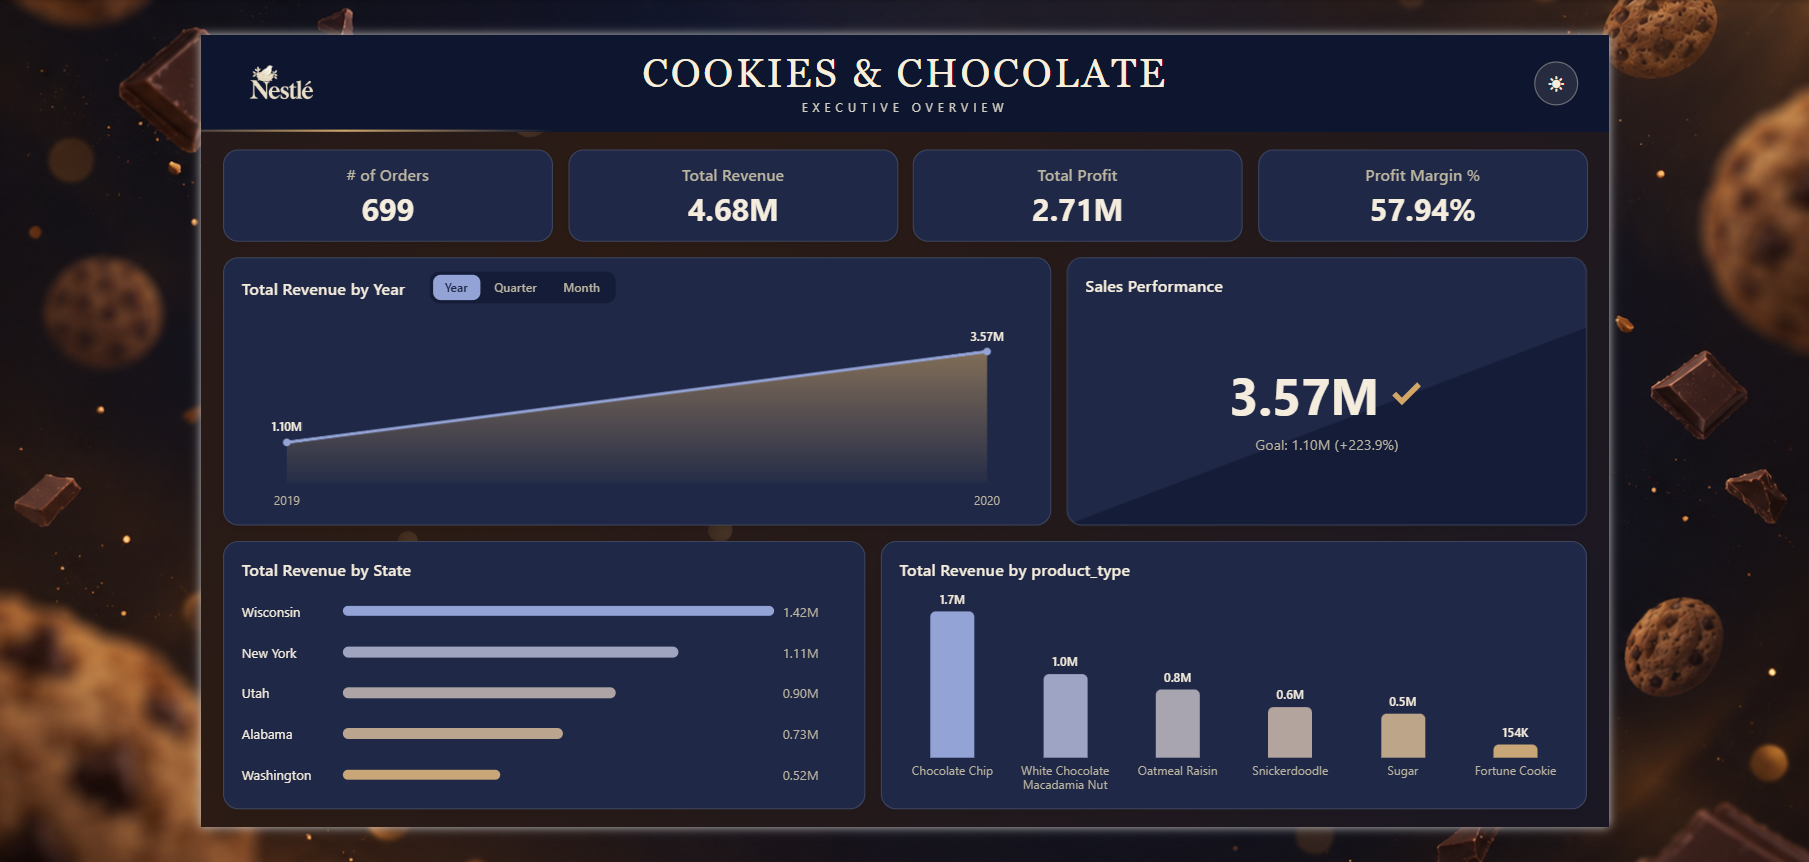

Layout of this report page (visuals, bound fields, positions):
{"tool":"powerbi","page":{"name":"Overview Page","canvas":[1280,720],"ordinal":1},"visuals":[{"type":"htmlContent443BE3AD55E043BF878BED274D3A6855","fields":{"content":["HTML Visuals.Overview_Page"]},"box":[0,0,1280,720],"z":0}]}

Visuals, with their boxes on the page's 1280x720 design canvas (x1, y1, x2, y2). These are canvas units, not pixel positions in the 1809x862 screenshot, which may show the page scaled, cropped or inside an application window:
htmlContent443BE3AD55E043BF878BED274D3A6855 - HTML Visuals.Overview_Page: select_region(0, 0, 1280, 720)
